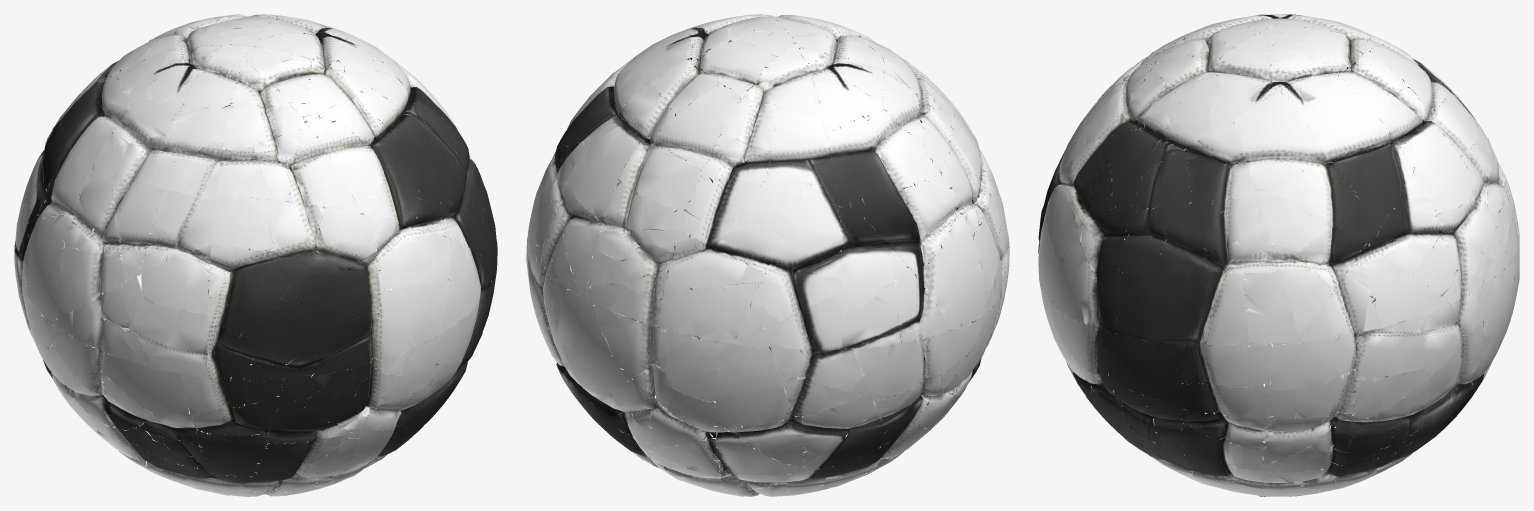
File: ball-soccer.glb
The picture shows the model from 3 angles, left to right: view 1: azimuth 30°, elevation 25°; view 2: azimuth 150°, elevation 25°; view 3: azimuth 270°, elevation 25°; orthographic projection.
Visible parts, largest first — view 1: Mesh_0; view 2: Mesh_0; view 3: Mesh_0.
Boxes of the visible parts, bbox=[...] form: Mesh_0: bbox=[14, 14, 497, 496]; Mesh_0: bbox=[526, 14, 1009, 496]; Mesh_0: bbox=[1038, 14, 1519, 496].
Bounding box in the file's own units: 0.22 × 0.2201 × 0.2195.
1 material, 1 textured.
